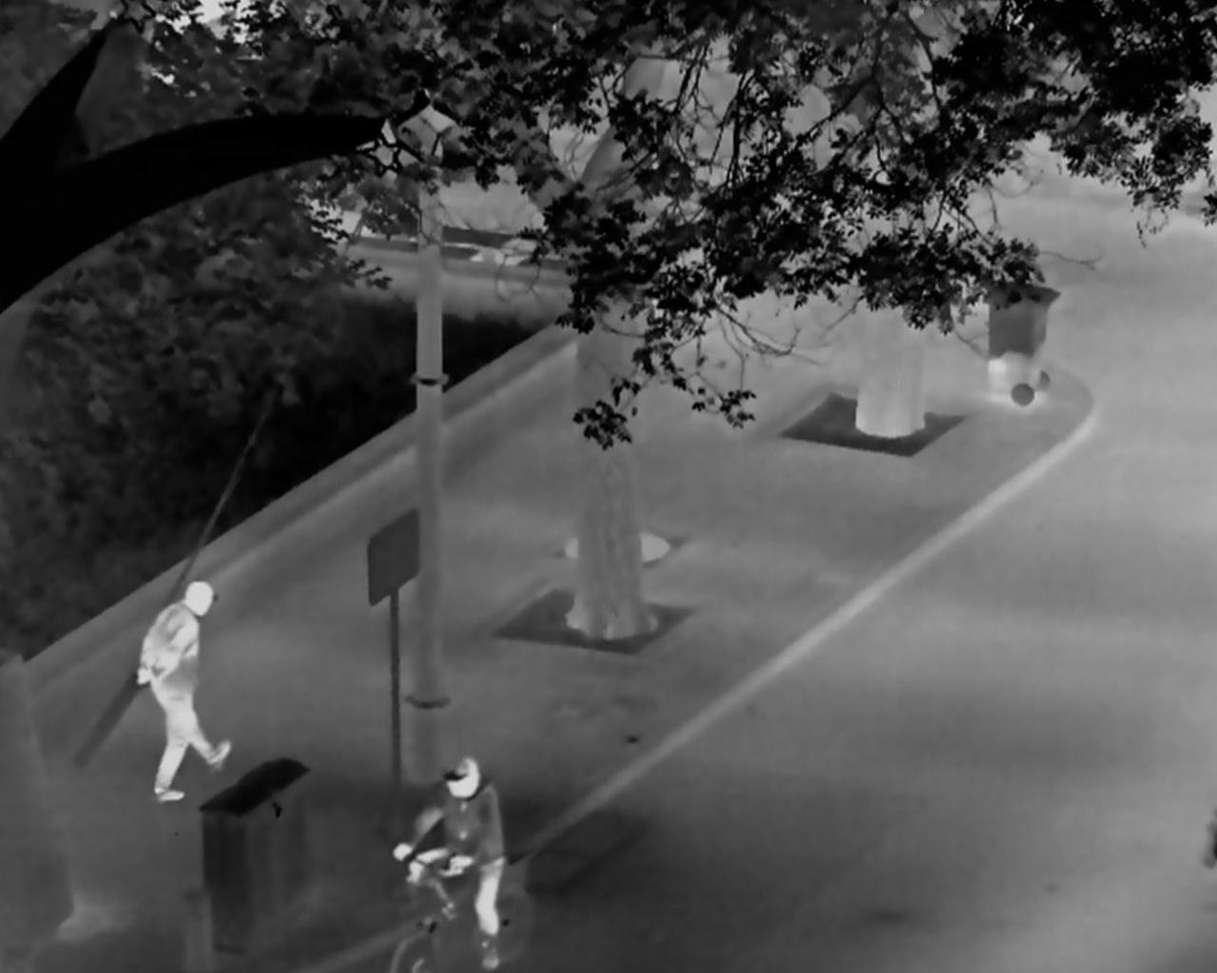person: (392, 755, 499, 968), (136, 580, 235, 801)
